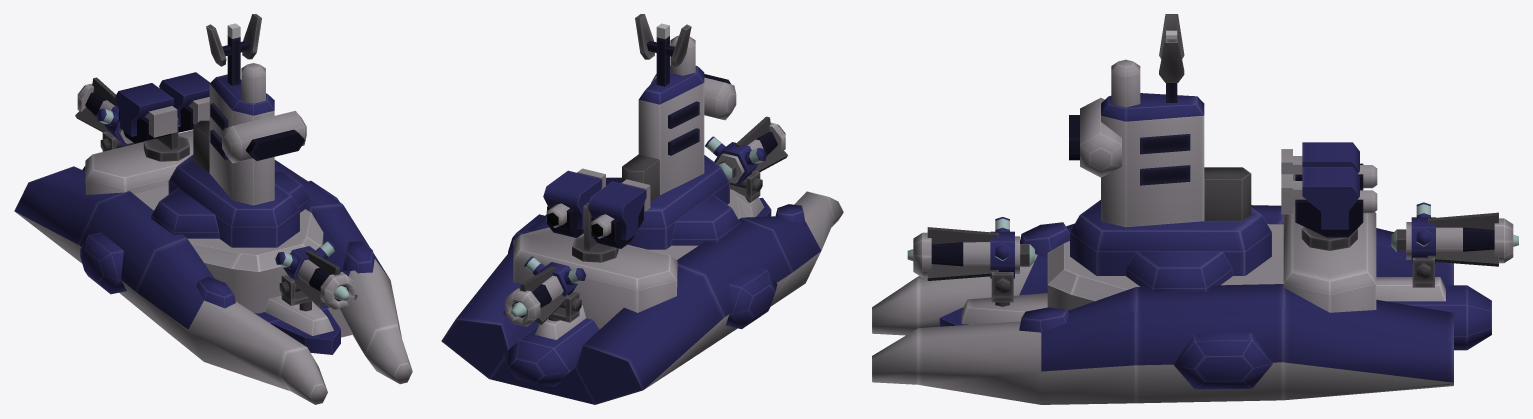
The model's file is unit_Ship_Battleship_Atreus_B.FBX.
The picture shows the model from 3 angles, left to right: view 1: azimuth 30°, elevation 25°; view 2: azimuth 150°, elevation 25°; view 3: azimuth 270°, elevation 25°; orthographic projection. The views are drawn at different scales.
Parts seen in each view (by area): view 1: unit_Ship_Battleship_Atreus_B_Body, unit_Ship_Battleship_Atreus_B_Missiles, unit_Ship_Battleship_Atreus_B_Weapon_F, unit_Ship_Battleship_Atreus_B_Weapon_R, unit_Ship_Battleship_Atreus_B_Turret_M, unit_Ship_Battleship_Atreus_B_Turret_F; view 2: unit_Ship_Battleship_Atreus_B_Body, unit_Ship_Battleship_Atreus_B_Missiles, unit_Ship_Battleship_Atreus_B_Weapon_R, unit_Ship_Battleship_Atreus_B_Weapon_F, unit_Ship_Battleship_Atreus_B_Turret_M, unit_Ship_Battleship_Atreus_B_Turret_R, unit_Ship_Battleship_Atreus_B_Turret_F; view 3: unit_Ship_Battleship_Atreus_B_Body, unit_Ship_Battleship_Atreus_B_Missiles, unit_Ship_Battleship_Atreus_B_Weapon_R, unit_Ship_Battleship_Atreus_B_Weapon_F, unit_Ship_Battleship_Atreus_B_Turret_M, unit_Ship_Battleship_Atreus_B_Turret_F.
Part boxes in pixels (x1,y1,x2,y2): unit_Ship_Battleship_Atreus_B_Body: (14,14,412,404); unit_Ship_Battleship_Atreus_B_Missiles: (115,72,209,143); unit_Ship_Battleship_Atreus_B_Weapon_F: (275,240,357,309); unit_Ship_Battleship_Atreus_B_Weapon_R: (75,77,143,151); unit_Ship_Battleship_Atreus_B_Turret_M: (143,117,189,161); unit_Ship_Battleship_Atreus_B_Turret_F: (281,274,311,311); unit_Ship_Battleship_Atreus_B_Body: (441,14,843,404); unit_Ship_Battleship_Atreus_B_Missiles: (543,168,650,248); unit_Ship_Battleship_Atreus_B_Weapon_R: (503,256,585,326); unit_Ship_Battleship_Atreus_B_Weapon_F: (705,116,787,191); unit_Ship_Battleship_Atreus_B_Turret_M: (572,202,618,262); unit_Ship_Battleship_Atreus_B_Turret_R: (548,291,579,322); unit_Ship_Battleship_Atreus_B_Turret_F: (730,171,760,202); unit_Ship_Battleship_Atreus_B_Body: (872,14,1491,404); unit_Ship_Battleship_Atreus_B_Missiles: (1281,142,1377,237); unit_Ship_Battleship_Atreus_B_Weapon_R: (1391,202,1518,279); unit_Ship_Battleship_Atreus_B_Weapon_F: (907,217,1034,294); unit_Ship_Battleship_Atreus_B_Turret_M: (1301,227,1357,250); unit_Ship_Battleship_Atreus_B_Turret_F: (991,272,1013,306).
Size of the model in its own units: 456 by 504 by 899.
